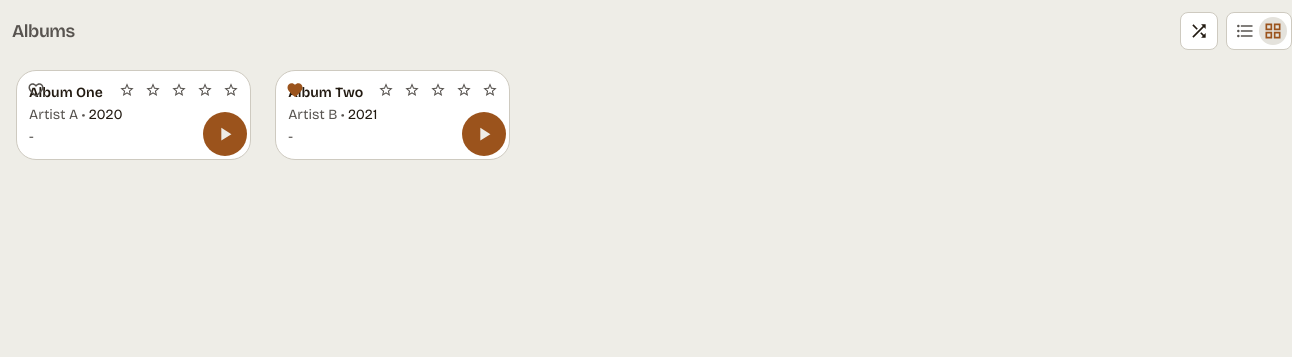
Test: Albums › passes renderContextMenu to LibraryView and the menu renders
Check: the text "Album One" is shown, box [29, 84, 103, 101]
Click the button named "list view". click: coordinates (1245, 31)
box: [1231, 17, 1259, 45]
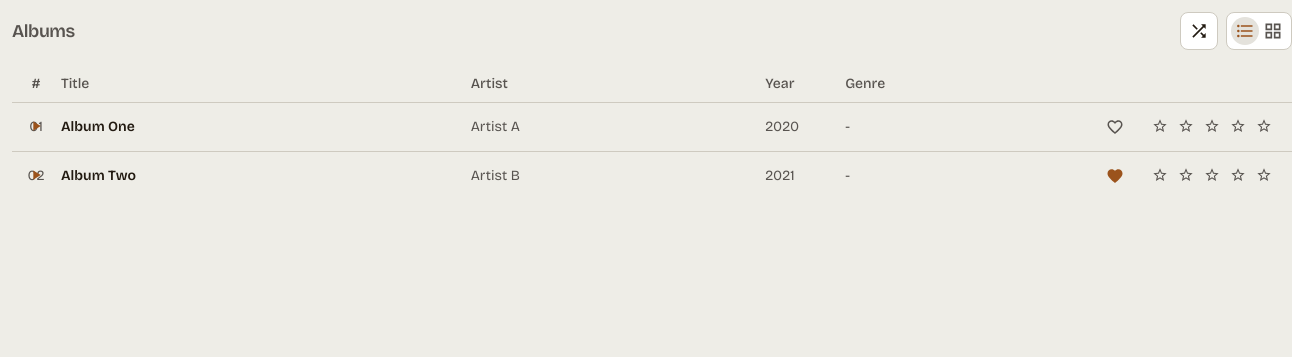
Right-click the row "01 Album One Artist A 2020 -" at coordinates (495, 126), box [12, 102, 1291, 152]
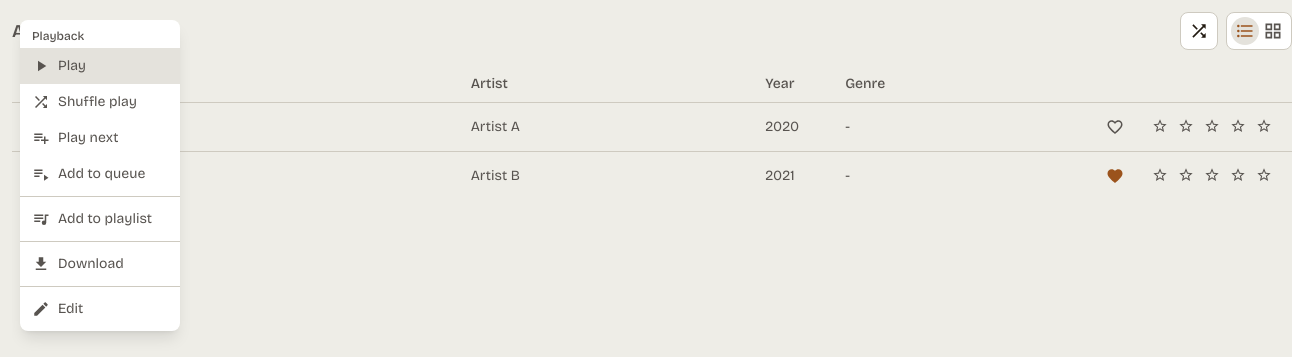
Check: the menu is shown, box [20, 20, 180, 331]
Check: the menu item "Play" is shown, box [20, 48, 180, 84]
Check: the menu item "Edit" is shown, box [20, 291, 180, 327]
